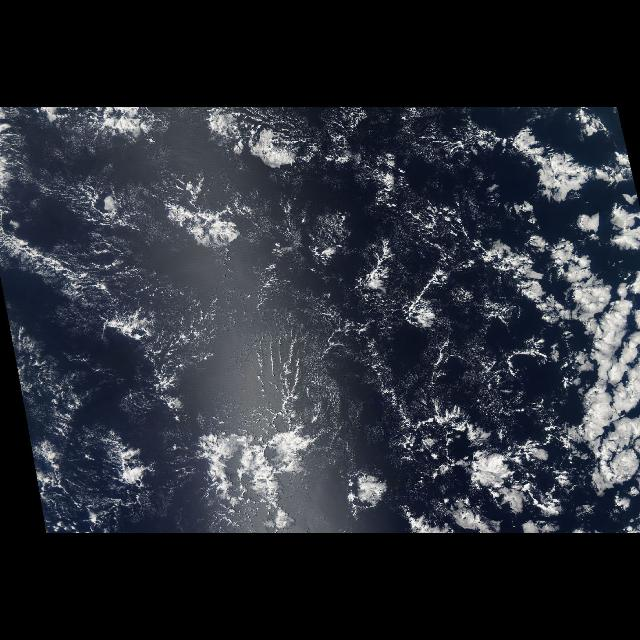Flower: (368, 116, 640, 522)
Gravel: (240, 264, 432, 431)
Sugar: (20, 165, 362, 462)
